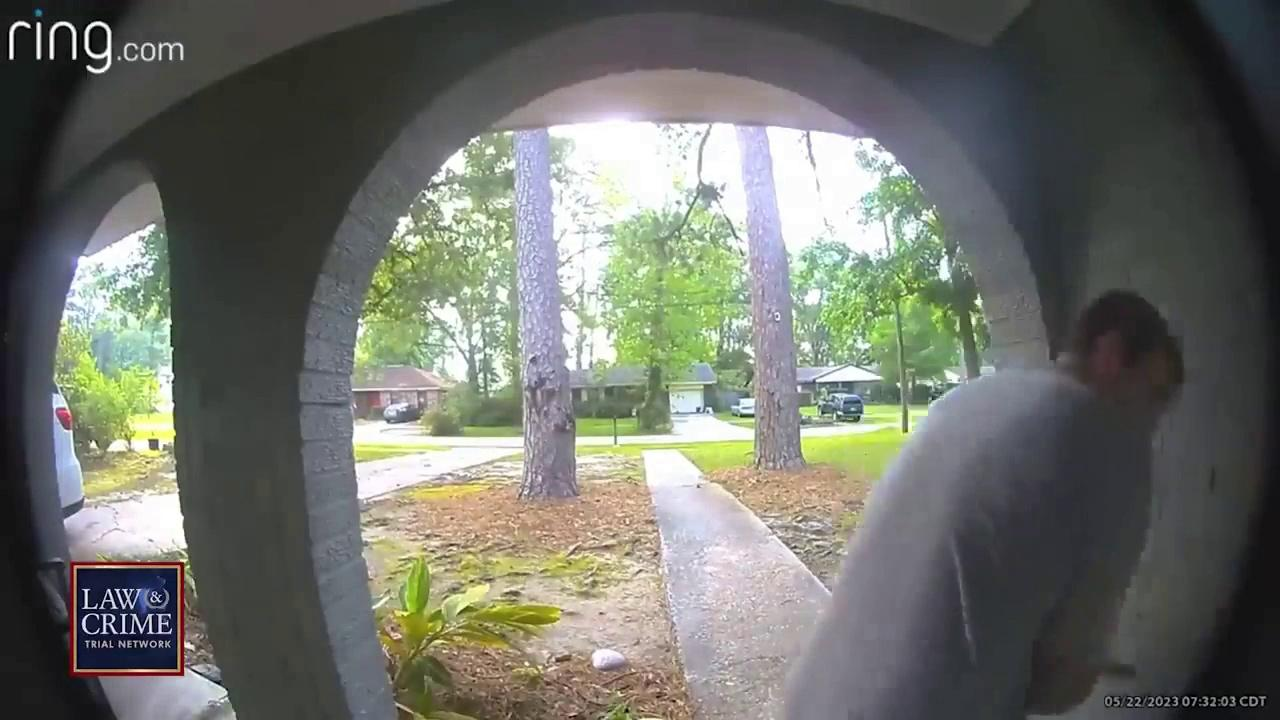suspicion: (774, 276, 1192, 718)
